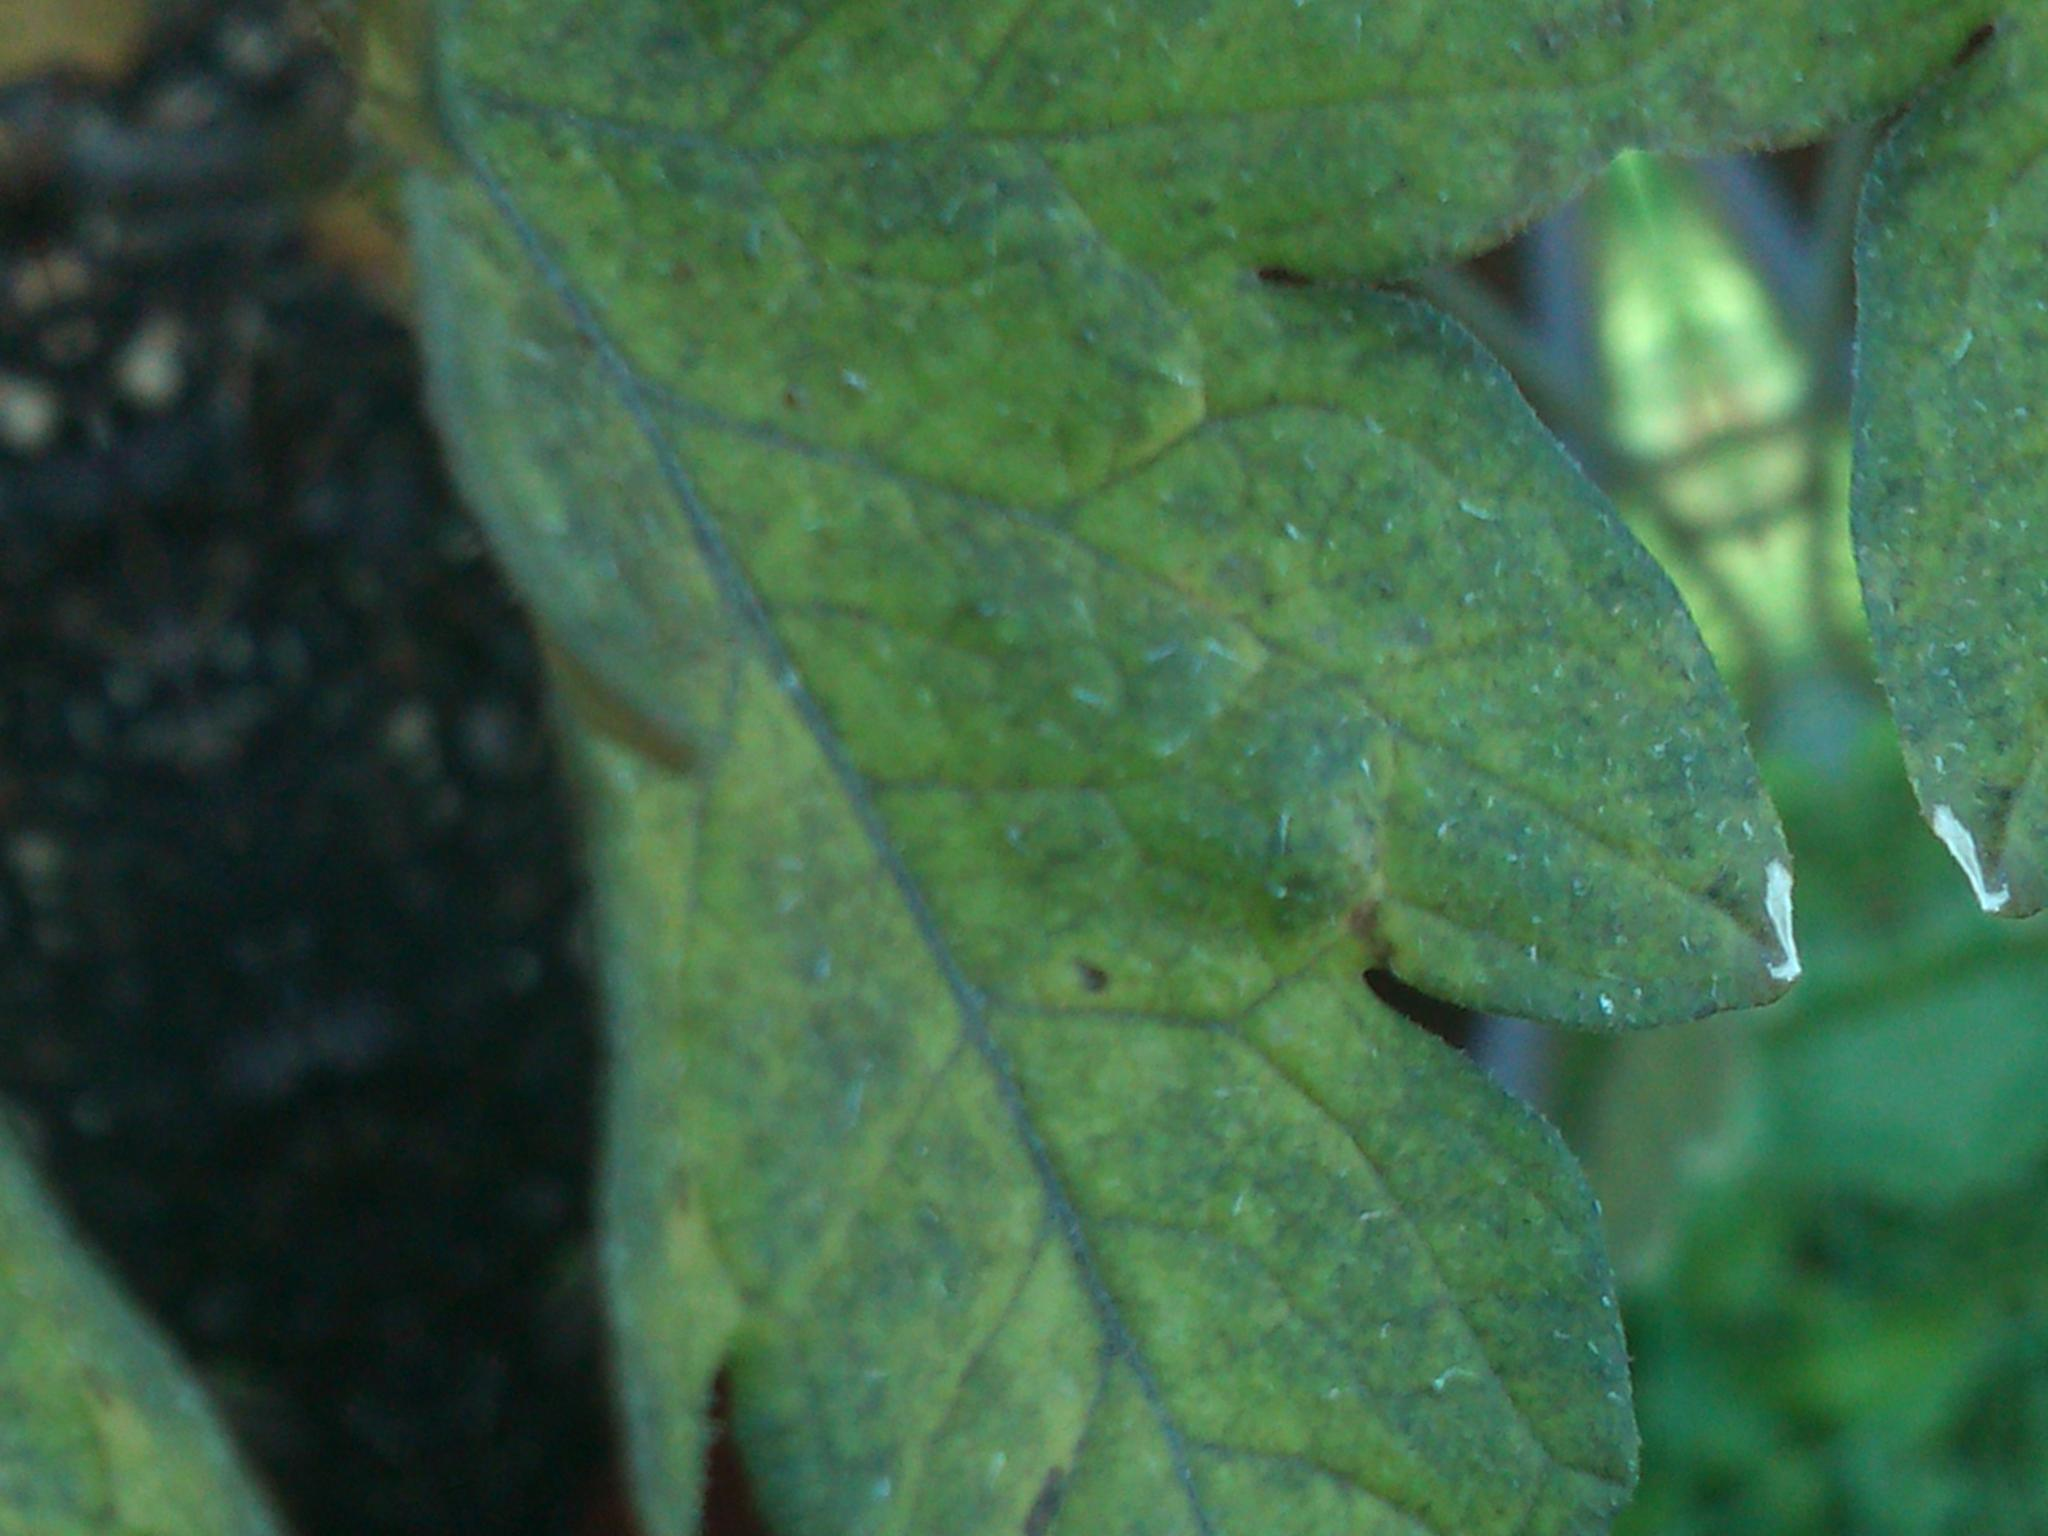Tomato mold leaf: (76, 0, 2048, 1536)
